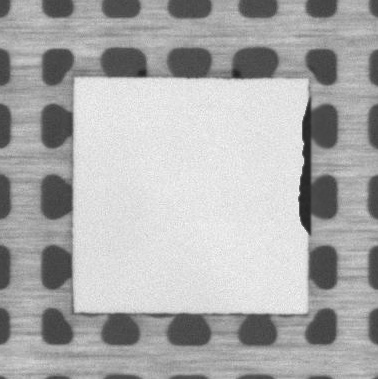DIE_BROKEN: (295, 97, 313, 235)
